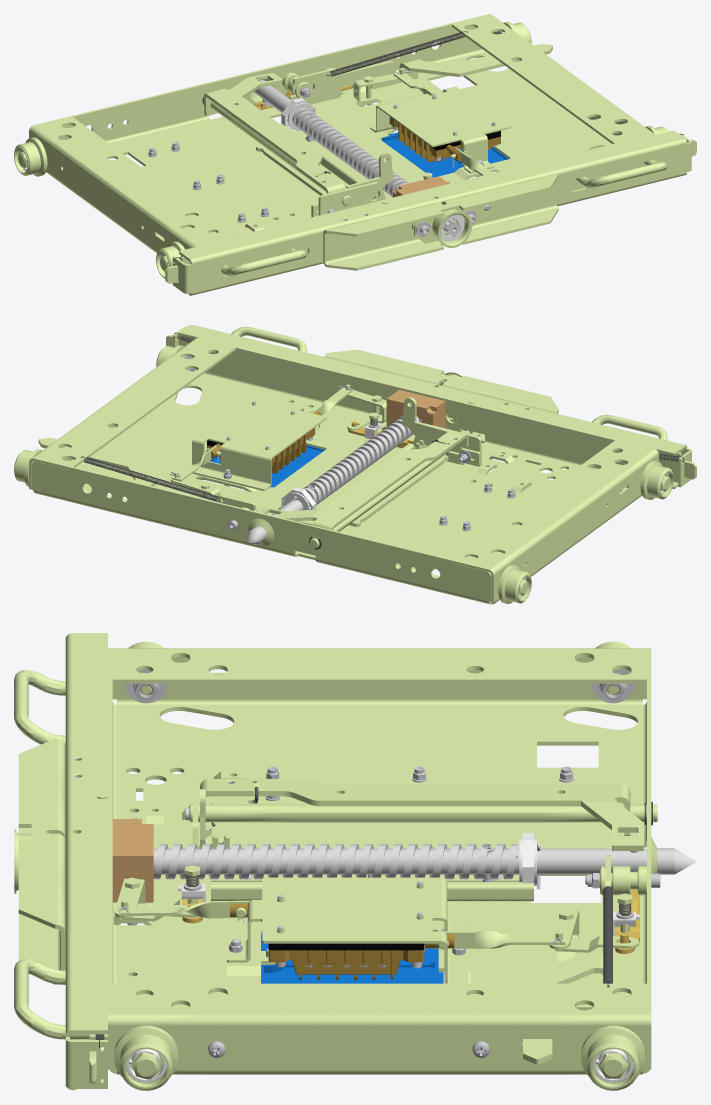
File: 11.2_vykatnaya-telezhka-dpc-4-800.glb
3 views of the same model, one above another, from view 1: azimuth 30°, elevation 25°; view 2: azimuth 150°, elevation 25°; view 3: azimuth 270°, elevation 25° (orthographic). The views are drawn at different scales.
Visible parts, largest first — view 1: 11.2_vykatnaya-telezhka-dpc-4-800; view 2: 11.2_vykatnaya-telezhka-dpc-4-800; view 3: 11.2_vykatnaya-telezhka-dpc-4-800.
Part boxes in pixels (bbox=[...]): 11.2_vykatnaya-telezhka-dpc-4-800: bbox=[14, 14, 696, 295]; 11.2_vykatnaya-telezhka-dpc-4-800: bbox=[14, 324, 696, 604]; 11.2_vykatnaya-telezhka-dpc-4-800: bbox=[14, 633, 696, 1090].
Bounding box in the file's own units: 686 × 72.77 × 465.
